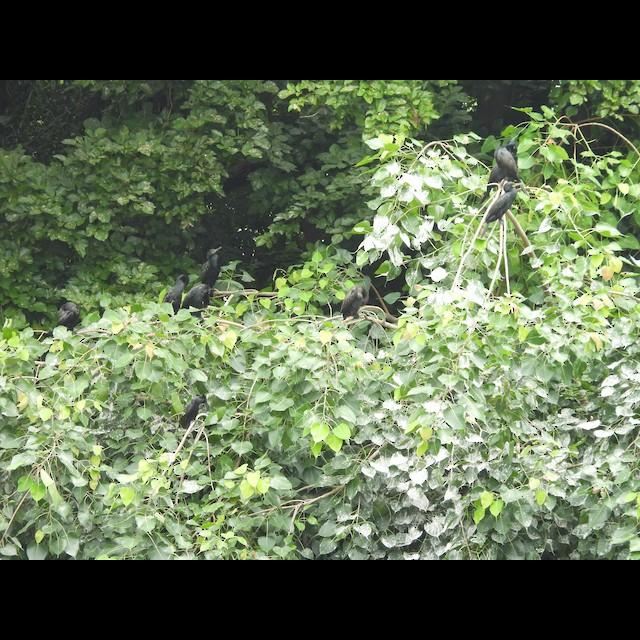cormorant: (477, 183, 528, 224), (483, 144, 529, 178), (198, 244, 226, 286), (341, 284, 369, 324)
